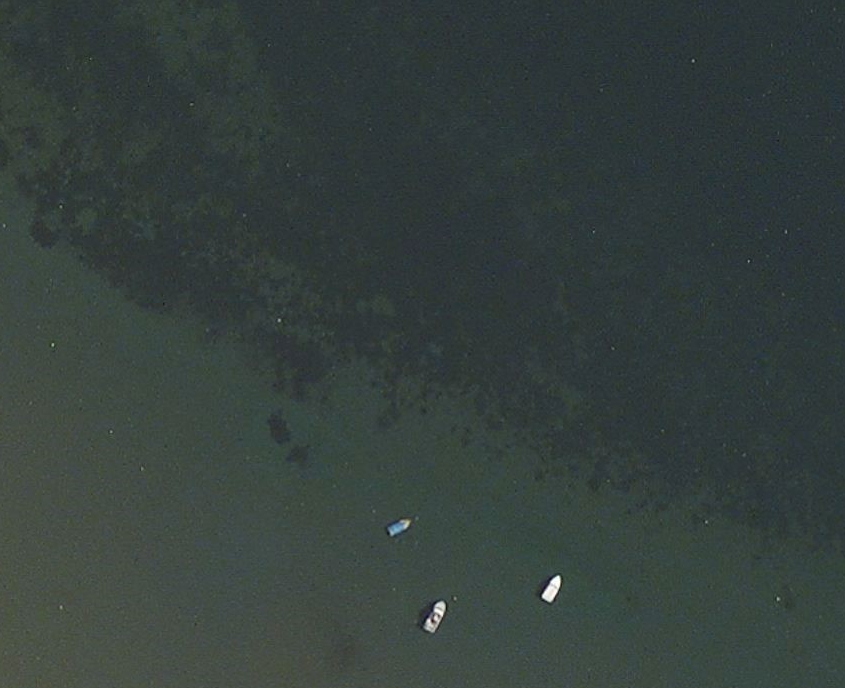ship: (420, 599, 450, 637), (536, 572, 568, 604), (384, 511, 412, 541)
